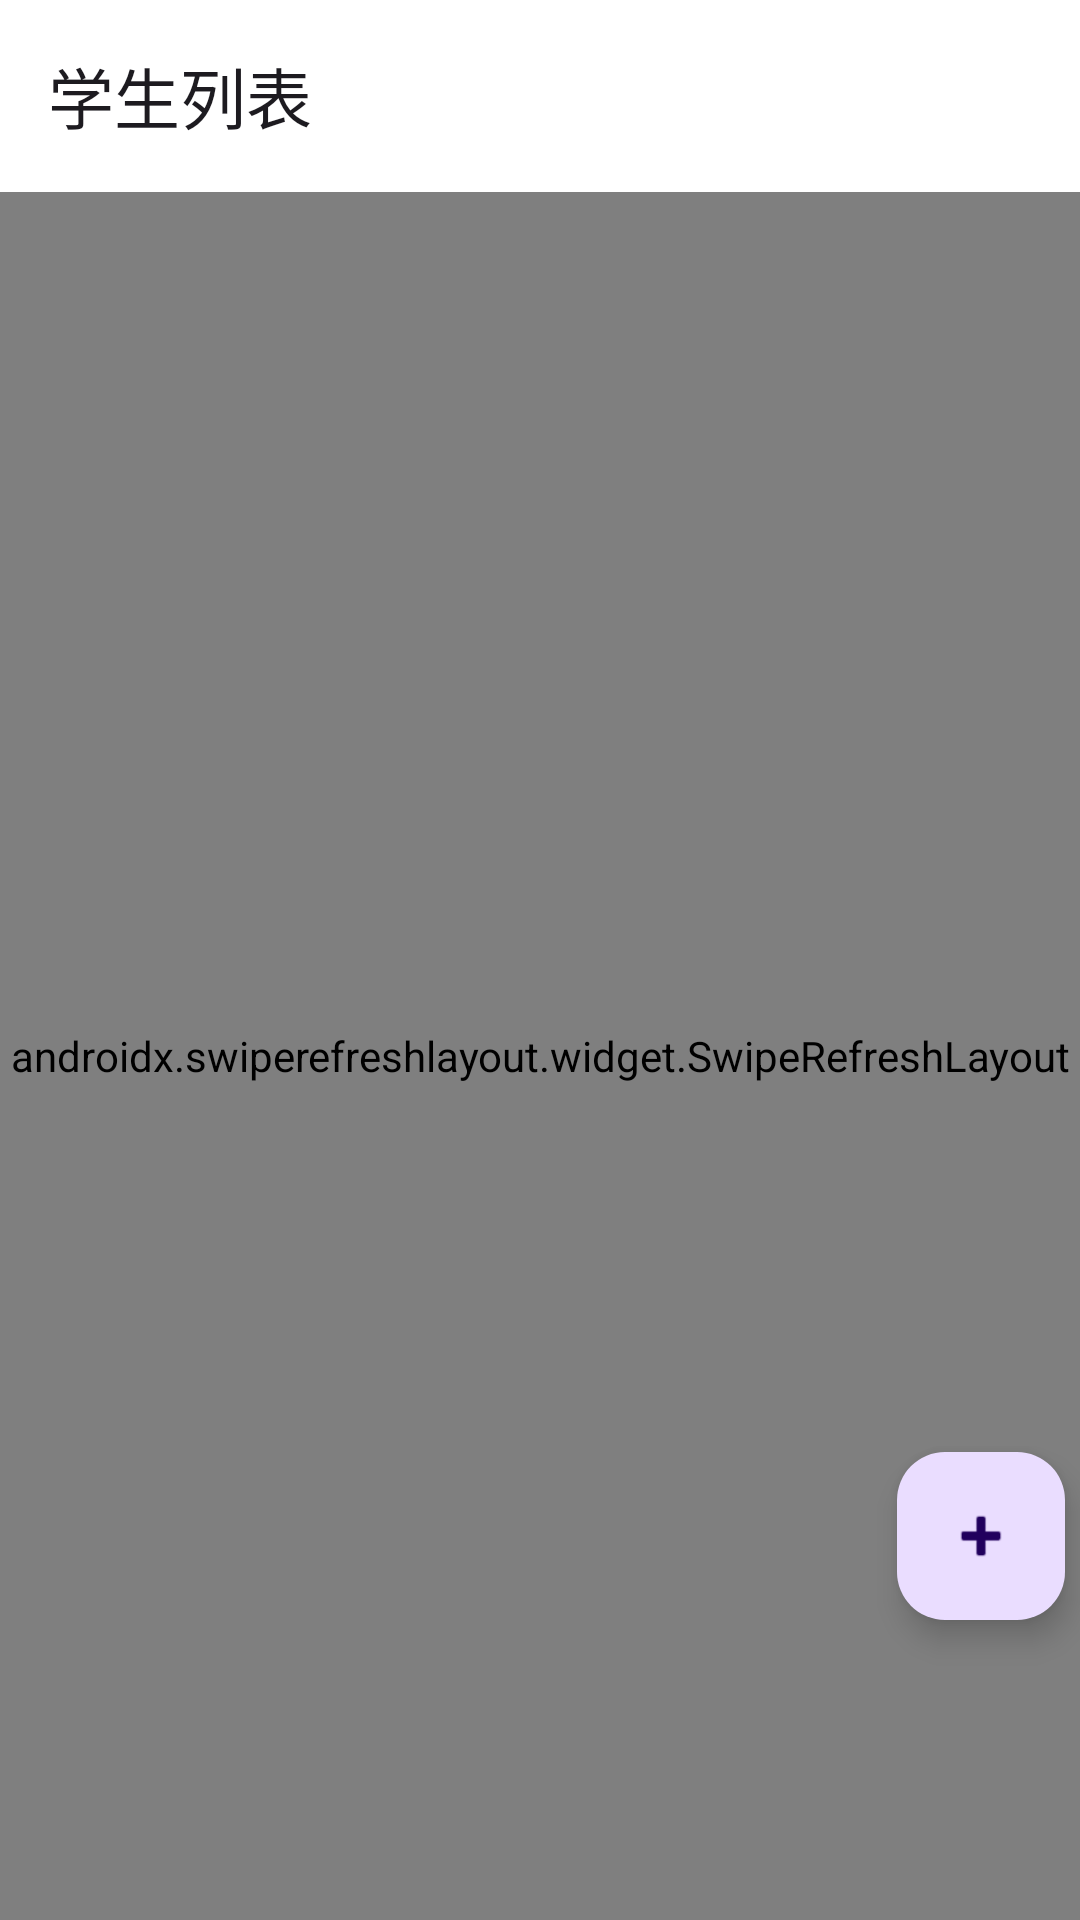

Locate icon controls on the screen. Image size 1080×1920, boxes as (x1, y1, x2, y2).
添加: (897, 1452, 1065, 1620)
